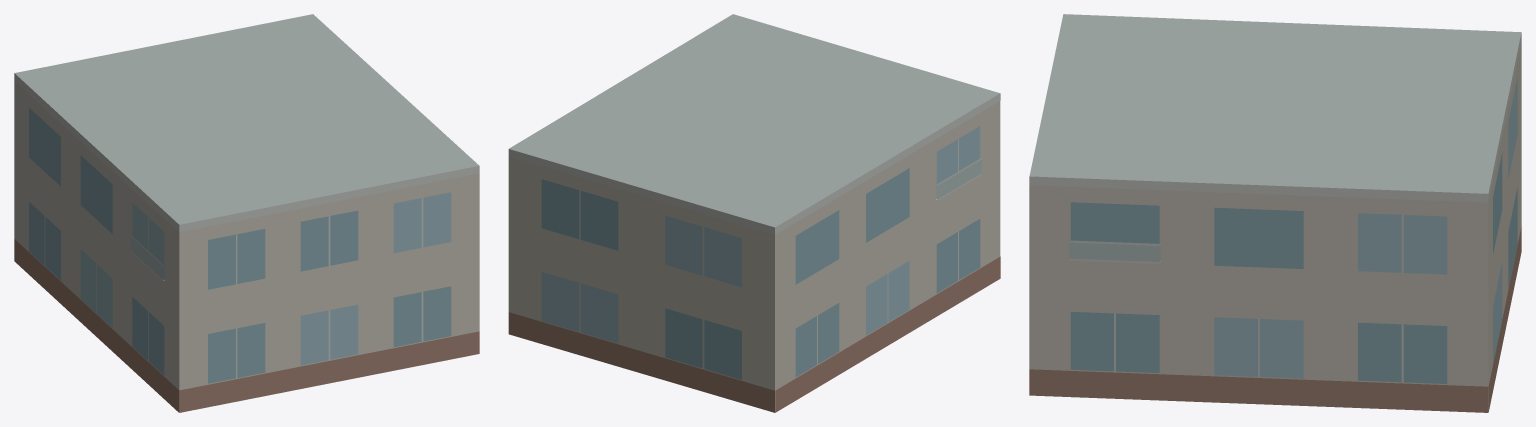
File: survey-upis-32652690.glb
3 renders of one model, left to right at view 1: azimuth 30°, elevation 25°; view 2: azimuth 150°, elevation 25°; view 3: azimuth 270°, elevation 25°, orthographic. The views are drawn at different scales.
Visible parts, largest first — view 1: survey-upis-32652690.tmp; view 2: survey-upis-32652690.tmp; view 3: survey-upis-32652690.tmp.
Part boxes in pixels (<box>): survey-upis-32652690.tmp: <box>14,14,479,412</box>; survey-upis-32652690.tmp: <box>508,14,1000,412</box>; survey-upis-32652690.tmp: <box>1029,14,1521,412</box>.
Bounding box in the file's own units: 10.75 × 6.1 × 12.43.
